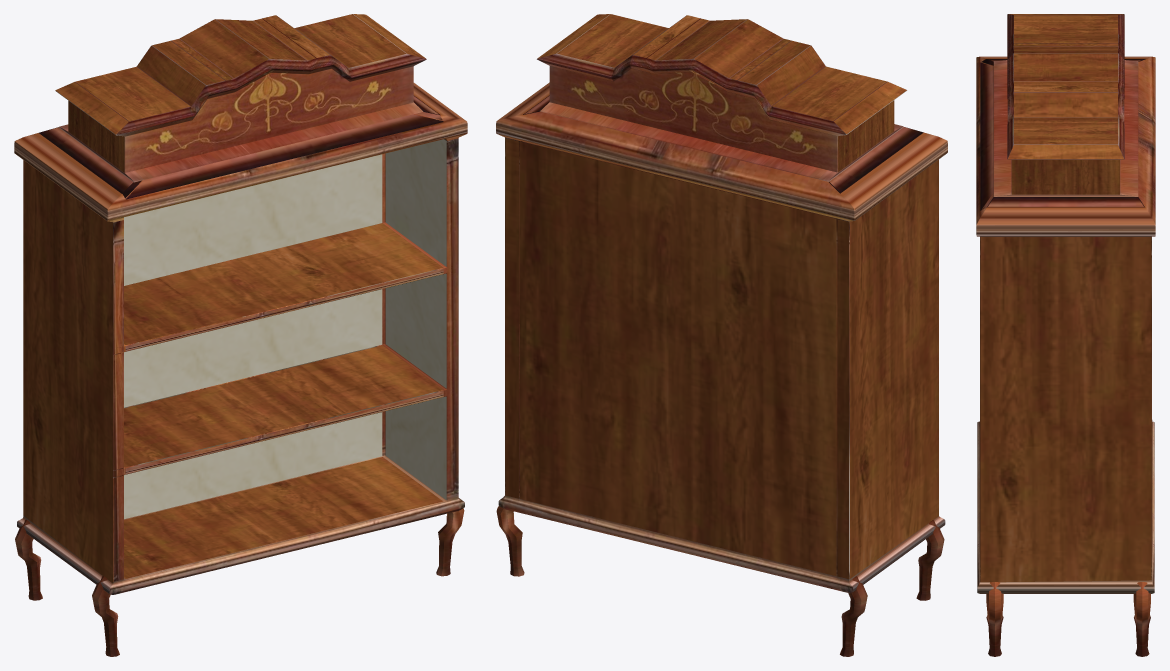
File: PAST_NewBookShelf.fbx
The picture shows the model from 3 angles, left to right: view 1: azimuth 30°, elevation 25°; view 2: azimuth 150°, elevation 25°; view 3: azimuth 270°, elevation 25°; orthographic projection. The views are drawn at different scales.
Parts seen in each view (by area): view 1: pCube2; view 2: pCube2; view 3: pCube2.
Part boxes in pixels (bbox=[...]): pCube2: bbox=[14, 14, 467, 656]; pCube2: bbox=[496, 14, 947, 656]; pCube2: bbox=[976, 14, 1155, 656].
Size of the model in its own units: 2.85 by 4.02 by 1.25.
Materials: 1 (1 with a texture image).
